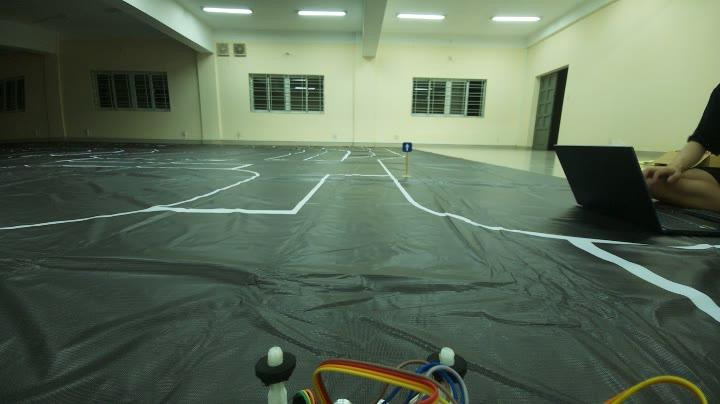onewayroad: (398, 139, 414, 159)
